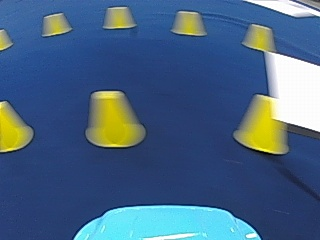cone: (86, 90, 145, 148), (234, 93, 286, 153), (0, 101, 33, 150), (242, 24, 277, 52), (171, 11, 206, 36), (103, 6, 136, 29), (43, 12, 71, 36), (0, 28, 13, 49)
